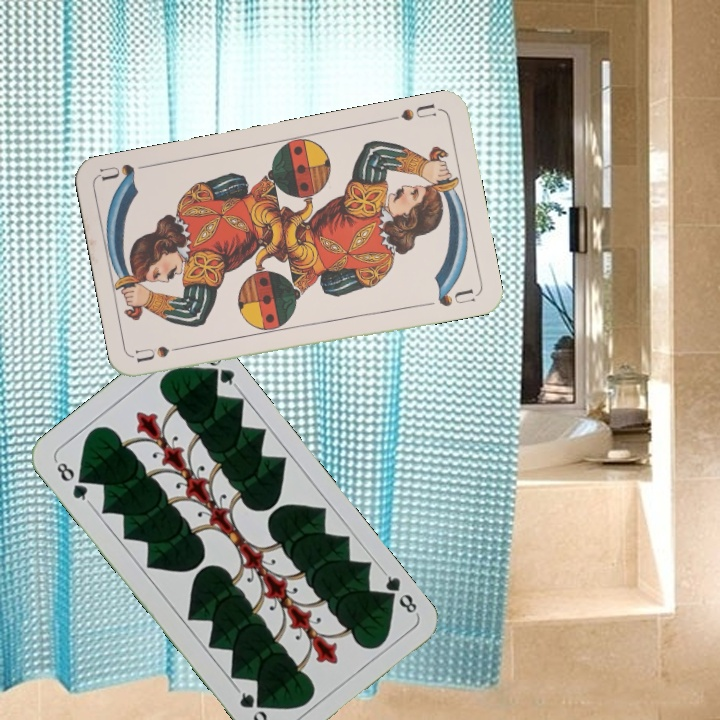G8: (378, 567, 422, 618), (51, 456, 93, 506)
SU: (132, 341, 192, 366), (397, 99, 439, 124)
